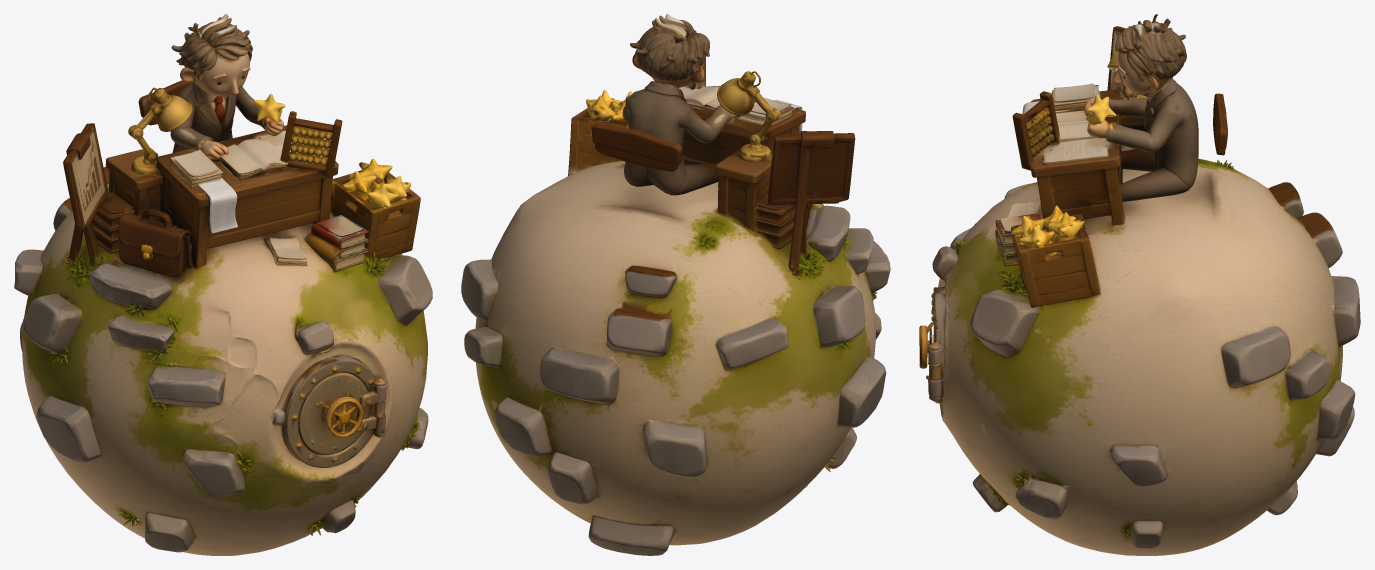
The model's file is businessman.glb.
3 renders of one model, left to right at view 1: azimuth 30°, elevation 25°; view 2: azimuth 150°, elevation 25°; view 3: azimuth 270°, elevation 25°, orthographic.
Parts seen in each view (by area): view 1: node_0; view 2: node_0; view 3: node_0.
Part boxes in pixels (box(x1,y1,x2,y2)): node_0: box(14, 14, 432, 555); node_0: box(461, 14, 890, 555); node_0: box(919, 14, 1360, 555).
Bounding box in the file's own units: 0.8945 × 1.17 × 0.9024.
Materials: 1 (1 with a texture image).
